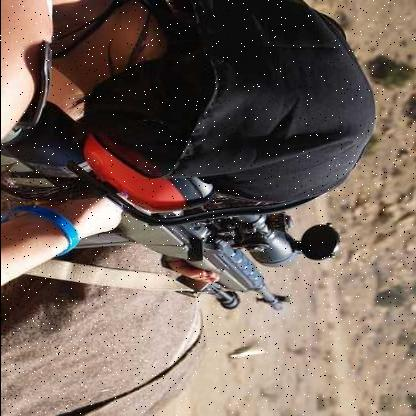rifle: (3, 110, 346, 344)
